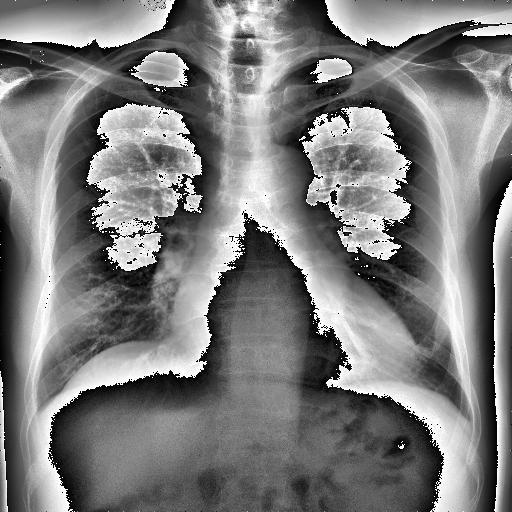0- Aortic enlargement: (246, 144, 314, 206)
11- Pleural thickening: (276, 51, 362, 81)
3- Cardiomegaly: (168, 290, 422, 390), (168, 288, 415, 378), (170, 299, 418, 384)
7- Lung Opacity: (63, 338, 160, 392)
9- Other lesion: (63, 338, 160, 392)
